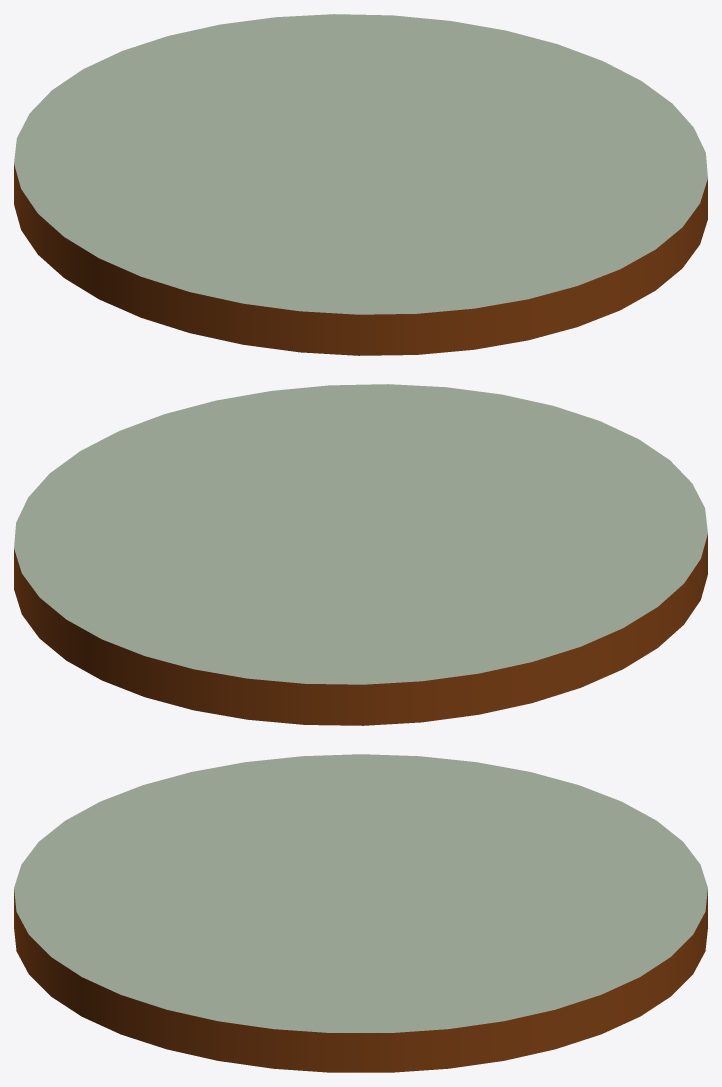
File: CoinVisual.fbx
3 renders of one model, top to bottom at view 1: azimuth 30°, elevation 25°; view 2: azimuth 150°, elevation 25°; view 3: azimuth 270°, elevation 25°, orthographic. The views are drawn at different scales.
Visible parts, largest first — view 1: CoinVisual; view 2: CoinVisual; view 3: CoinVisual.
Boxes of the visible parts, bbox=[...] form: CoinVisual: bbox=[14, 14, 707, 355]; CoinVisual: bbox=[14, 384, 707, 725]; CoinVisual: bbox=[14, 754, 707, 1072].
Size of the model in its own units: 9.67 by 0.6408 by 10.17.
